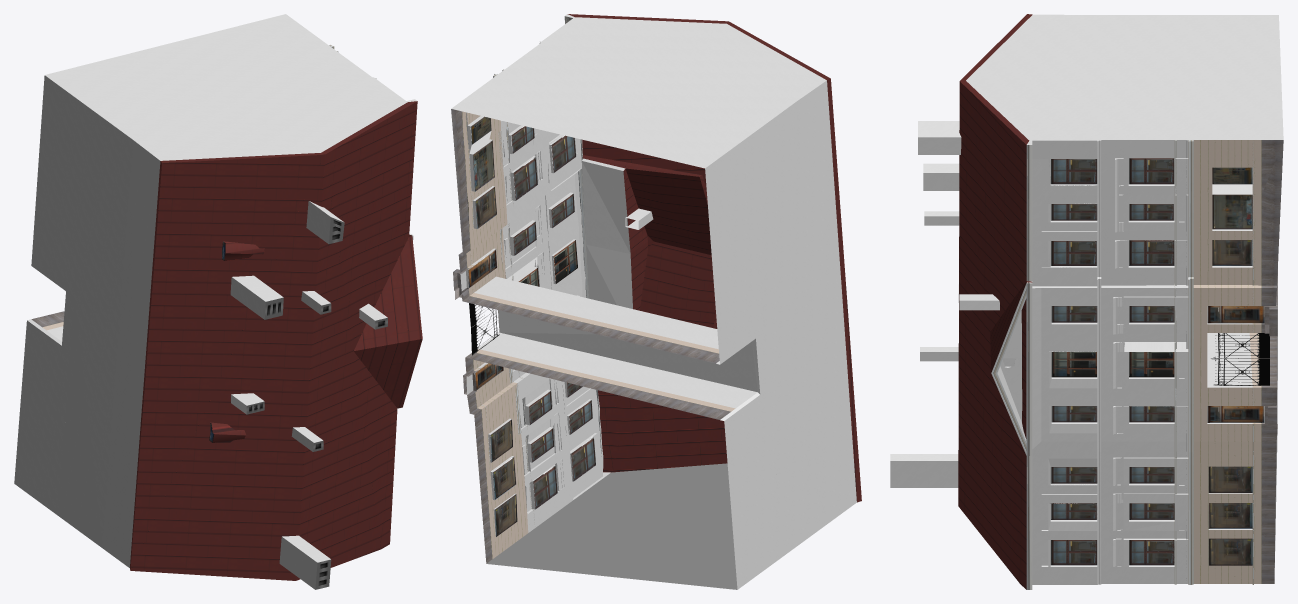
File: Vana_Viru_3-origo.obj
The picture shows the model from 3 angles, left to right: view 1: azimuth 30°, elevation 25°; view 2: azimuth 150°, elevation 25°; view 3: azimuth 270°, elevation 25°; orthographic projection. The views are drawn at different scales.
Visible parts, largest first — view 1: Vana_Viru_3; view 2: Vana_Viru_3; view 3: Vana_Viru_3.
Boxes of the visible parts, x1,y1,x2,y2 form: Vana_Viru_3: (14, 14, 422, 589); Vana_Viru_3: (451, 14, 861, 589); Vana_Viru_3: (890, 14, 1283, 589).
Bounding box in the file's own units: 16.81 × 24.5 × 19.02.
